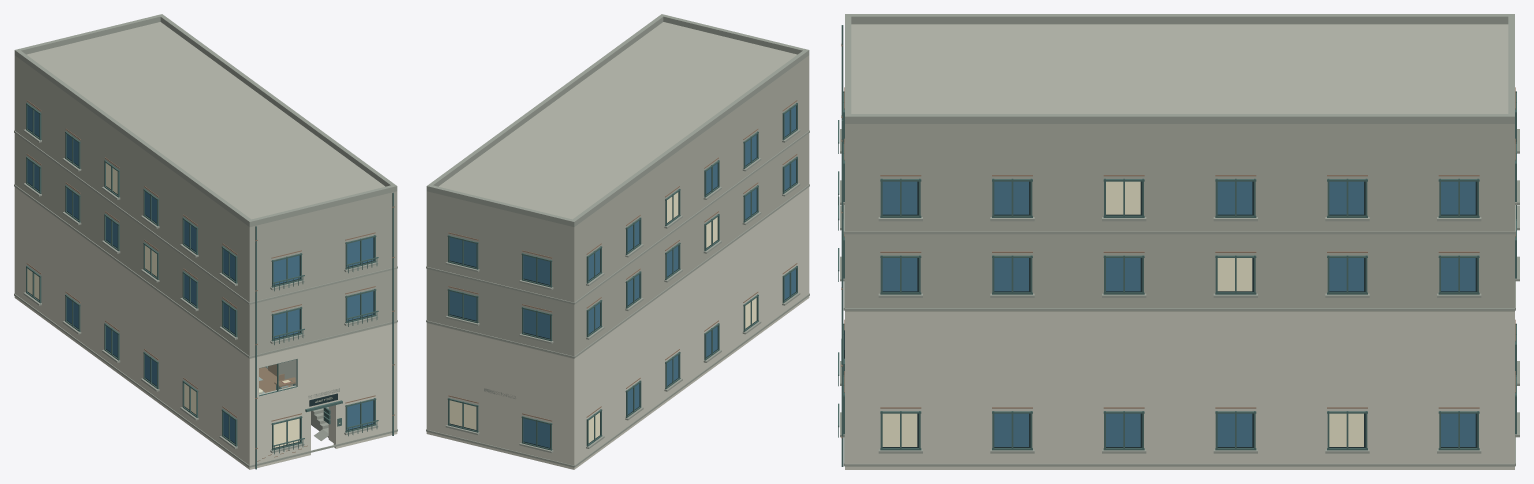
The model's file is nyaan-apartment.glb.
3 renders of one model, left to right at view 1: azimuth 30°, elevation 25°; view 2: azimuth 150°, elevation 25°; view 3: azimuth 270°, elevation 25°, orthographic. The views are drawn at different scales.
Visible parts, largest first — view 1: nyaan_runtime_lod0; view 2: nyaan_runtime_lod0; view 3: nyaan_runtime_lod0.
Part boxes in pixels (<box>): nyaan_runtime_lod0: <box>14,14,397,469</box>; nyaan_runtime_lod0: <box>426,14,809,469</box>; nyaan_runtime_lod0: <box>838,14,1519,469</box>.
Size of what is drawn, in the model's own units: 9.27 by 14.3 by 25.01.
